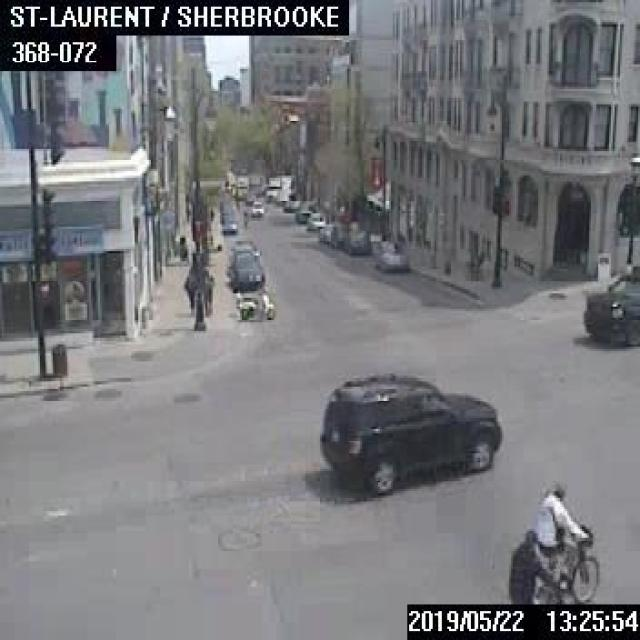cyclist: (533, 480, 598, 602), (507, 526, 561, 604)
pedestrian: (182, 267, 195, 309), (202, 265, 213, 311), (176, 233, 187, 260)
vehicle: (316, 371, 498, 487), (582, 269, 638, 342), (227, 247, 264, 290), (234, 285, 274, 318), (342, 224, 371, 253), (376, 240, 406, 267), (328, 223, 348, 246), (304, 210, 324, 229), (293, 202, 312, 222), (318, 221, 336, 241), (282, 190, 298, 209), (220, 212, 235, 232), (242, 196, 253, 214), (250, 200, 263, 214), (274, 189, 286, 203)
